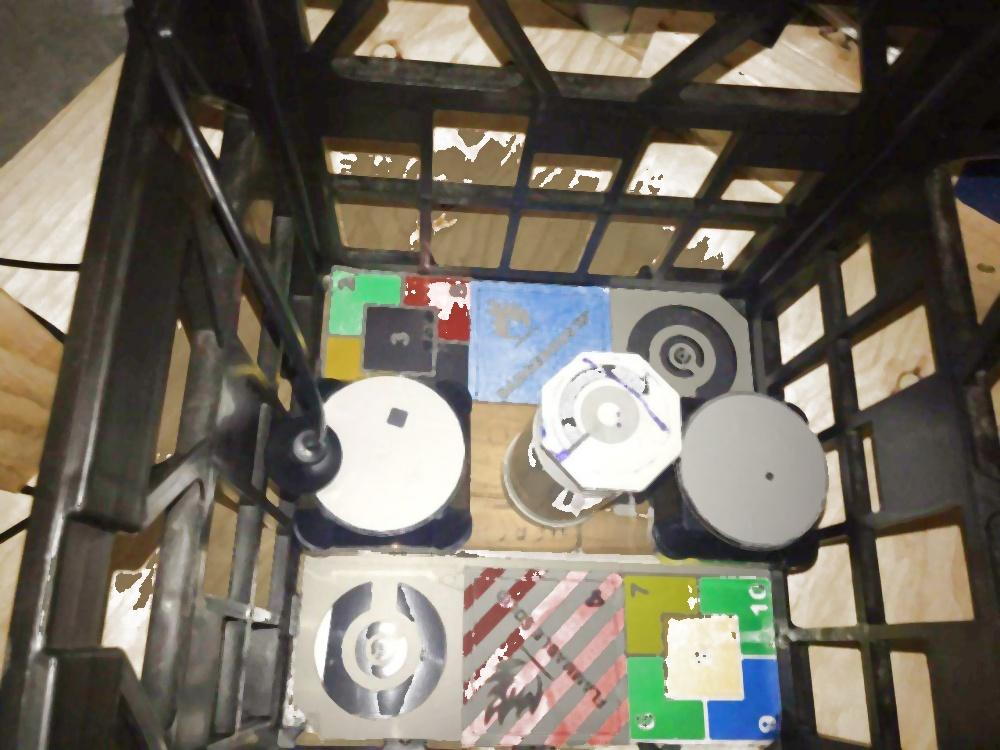dangerous-when-wet: (469, 278, 613, 410)
flammable-solid: (461, 568, 630, 747)
